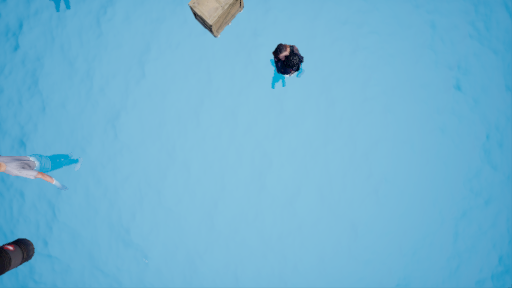person: (1, 148, 88, 194), (270, 43, 308, 95)
